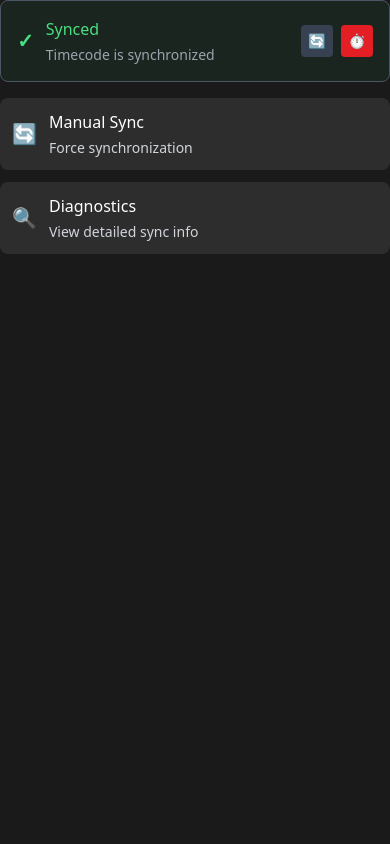
Test: TimecodeSync › loads and displays diagnostics when requested
The image size is (390, 844).
Click the text "Diagnostics": (93, 206) [49,195,136,217]
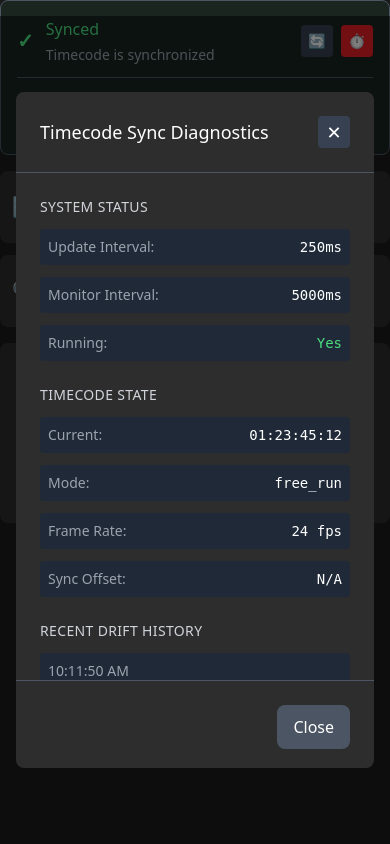
expect the heading "Timecode Sync Diagnostics" is shown: met, box [40,118,269,146]
expect the heading "System Status" is shown: met, box [40,197,148,216]
expect the text "250ms" is shown: met, box [300,237,342,257]
